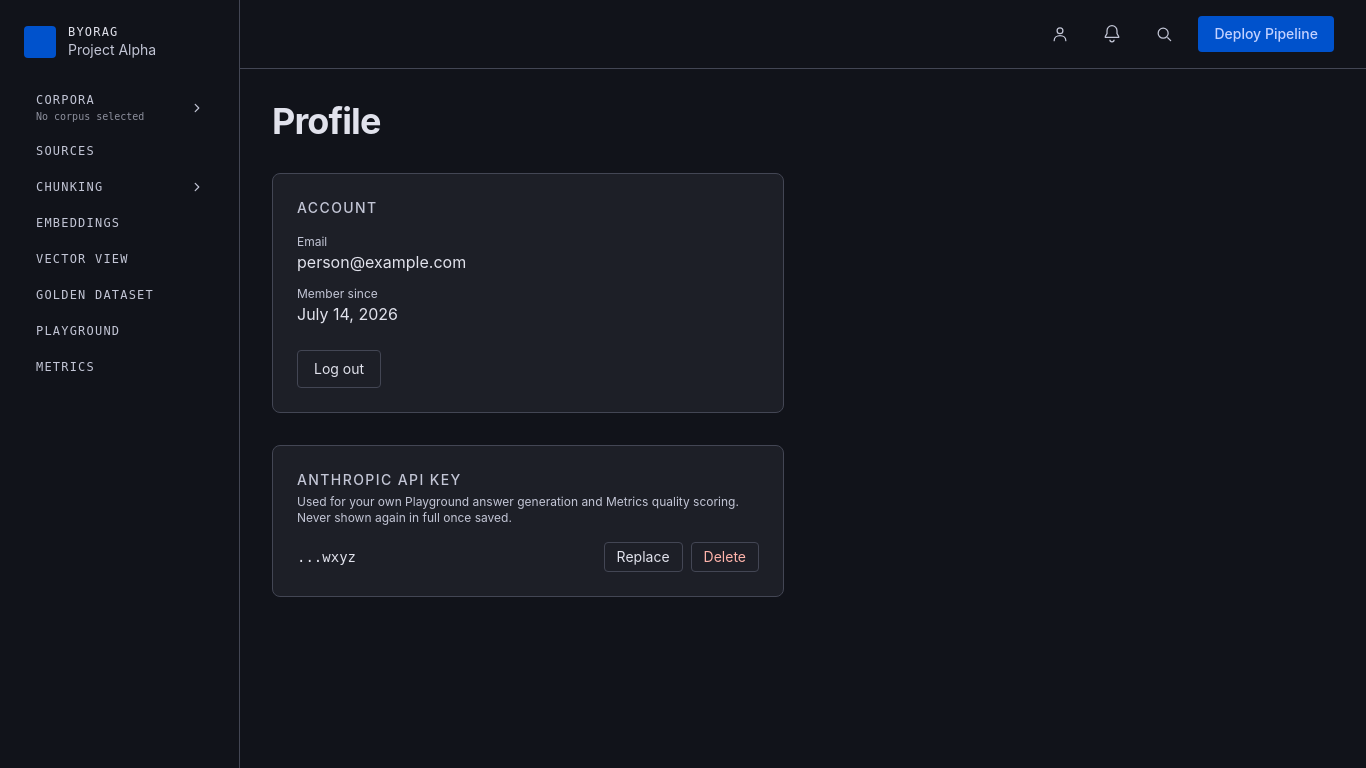
Test: ProfileScreen — delete Anthropic key (US3) › removes the stored key and shows the empty-state form again after confirming
The width and height of the screenshot is (1366, 768).
Expected: the text "...wxyz" is shown, x1=297 y1=547 x2=356 y2=567
Step 1. Click the button "Delete" → click(725, 557), box x1=691 y1=542 x2=759 y2=572
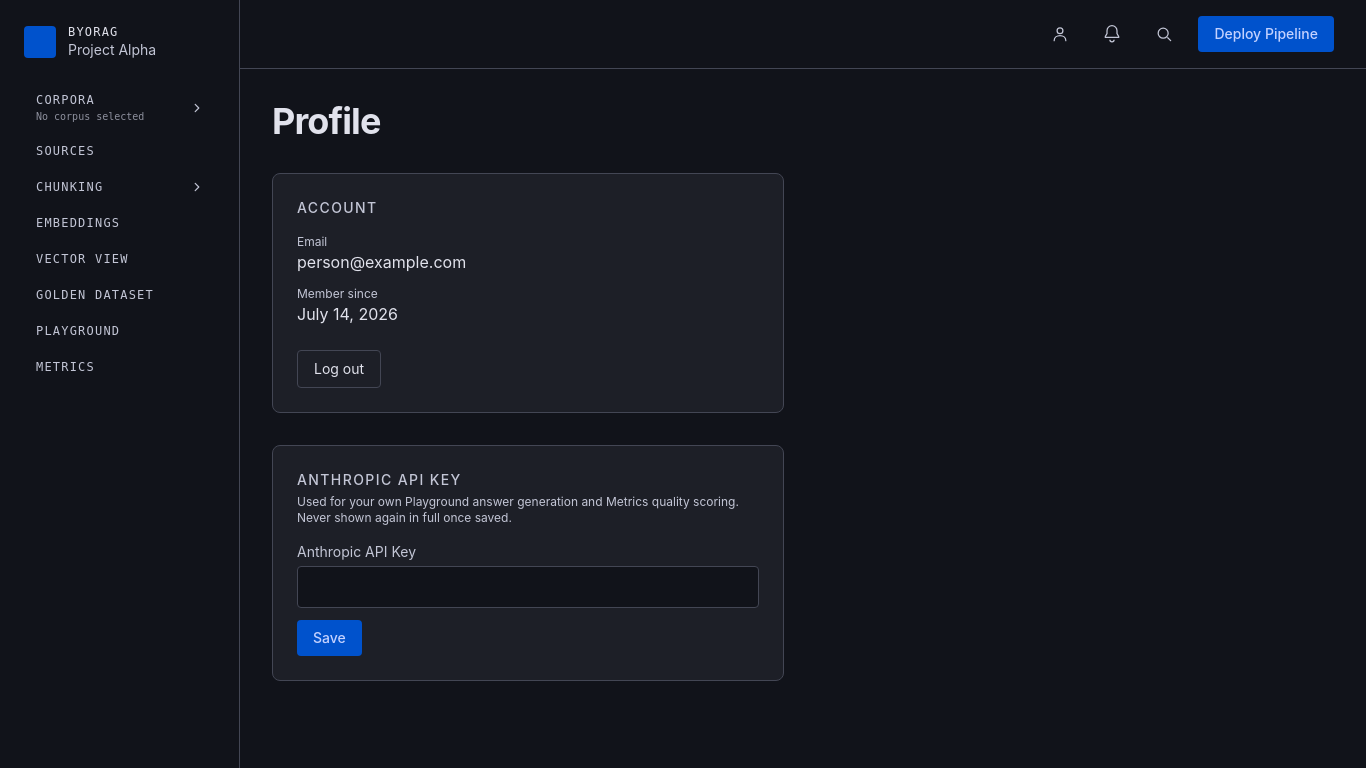
Expected: the password field labelled "Anthropic API Key" is shown, x1=297 y1=566 x2=759 y2=608
Expected: the text "...wxyz" is gone
